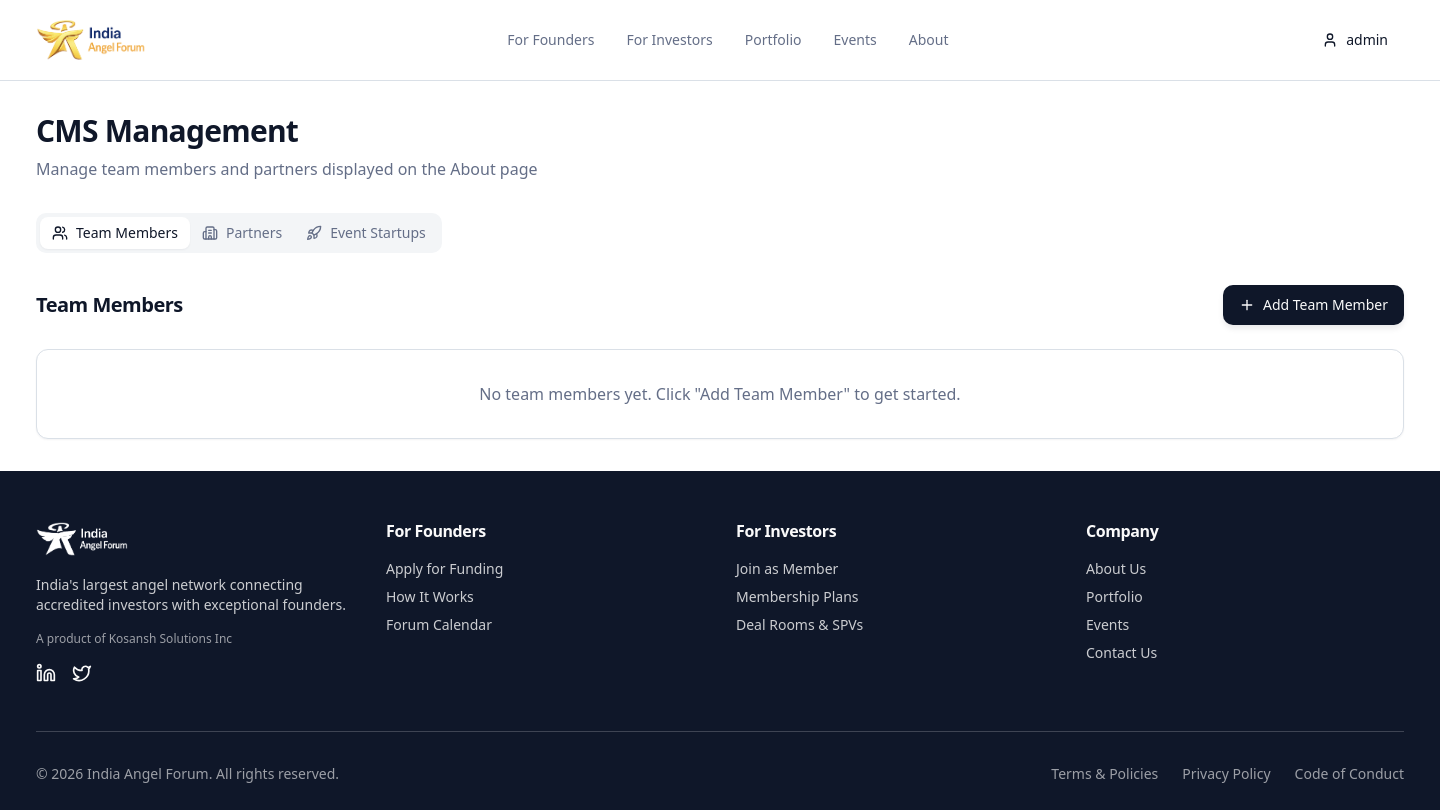
Test case: US-ADMIN-CRUD-003: CMS Event Startups Tab › Tab Visibility › should switch to Event Startups tab when clicked
What coordinates should you click on to do the following:
click the tab "Event Startups"
I would click on:
 (366, 233)
Its box is [294, 217, 438, 249].
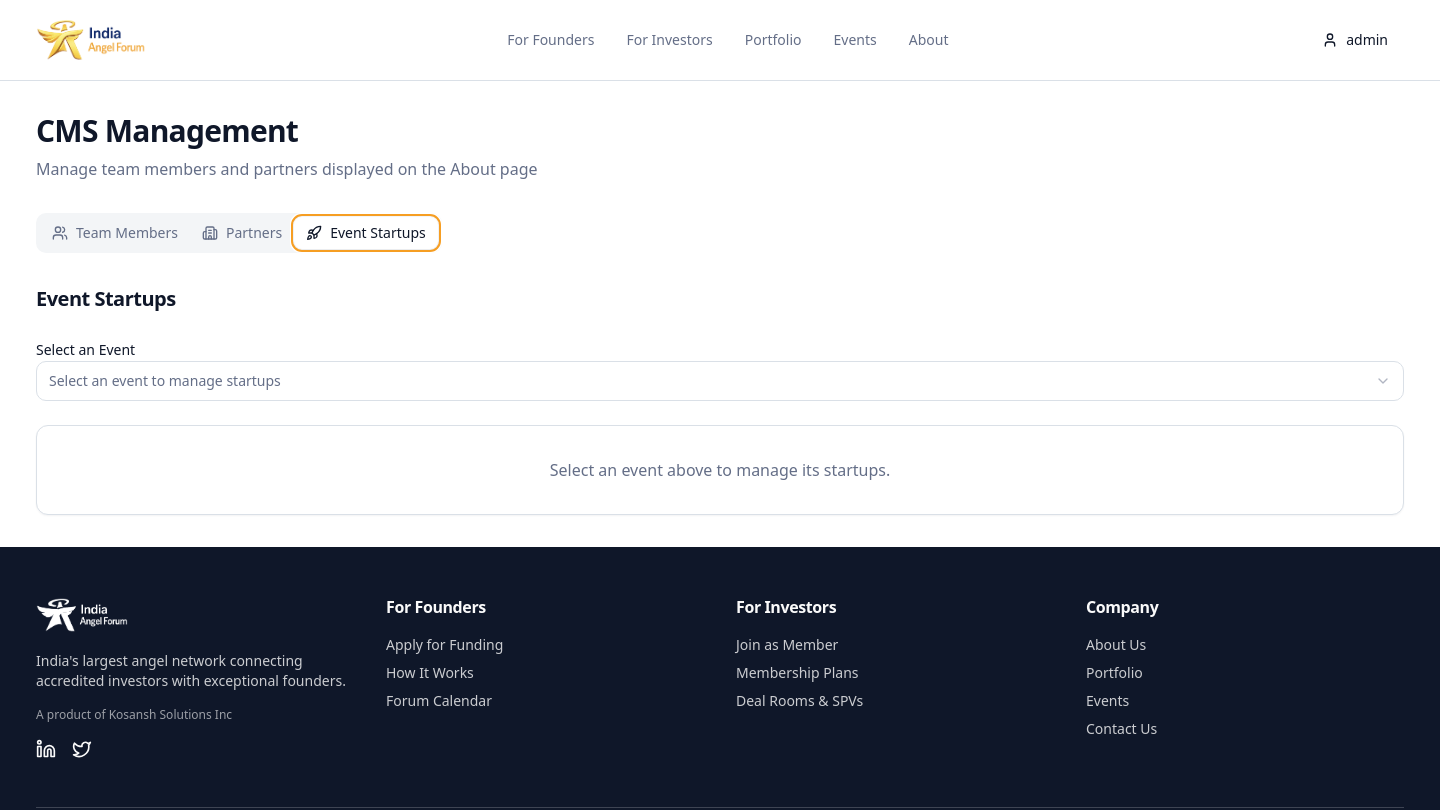
Now the text "Select an Event" is shown, box [36, 340, 135, 359]
